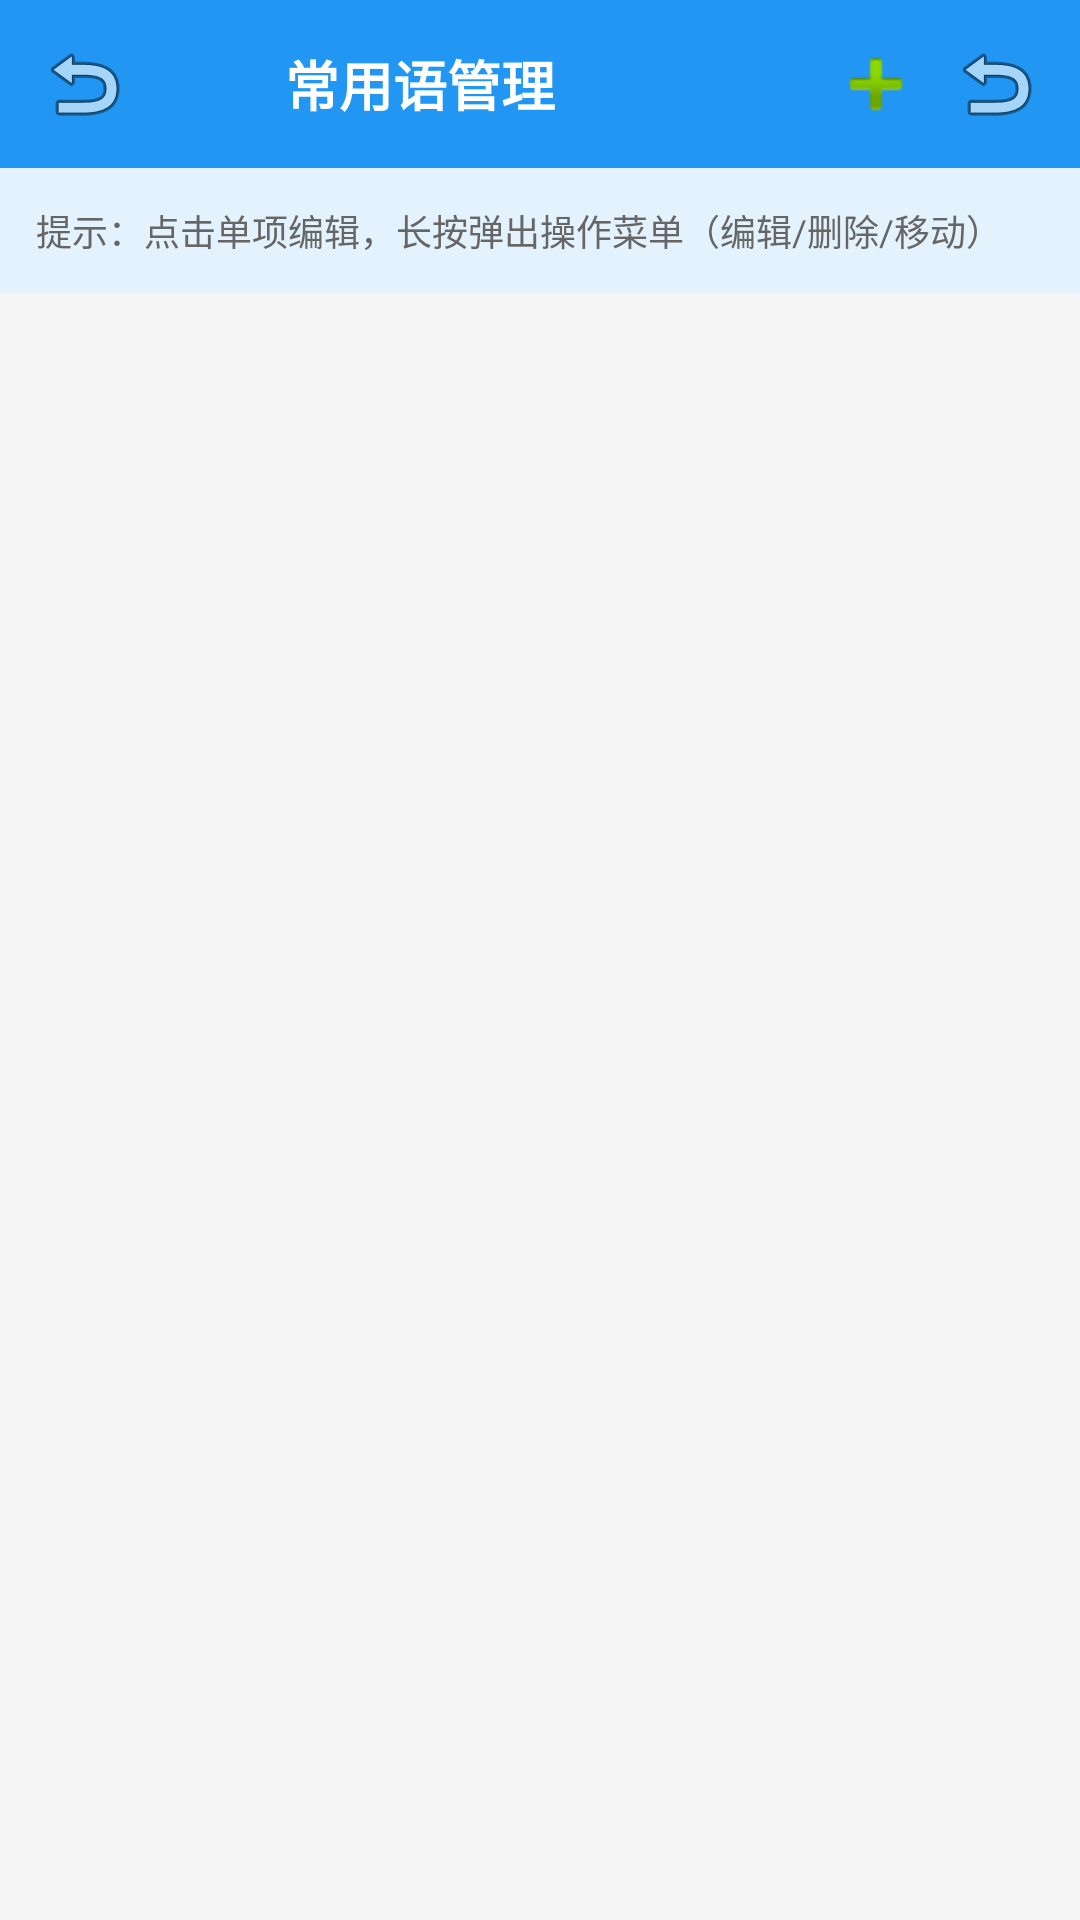

Named icons in this screenshot (1080×1920) and their bounding boxes, (x1, y1, x2, y2):
恢复默认: (963, 53, 1032, 116)
新增: (849, 57, 903, 111)
返回: (51, 53, 120, 116)
